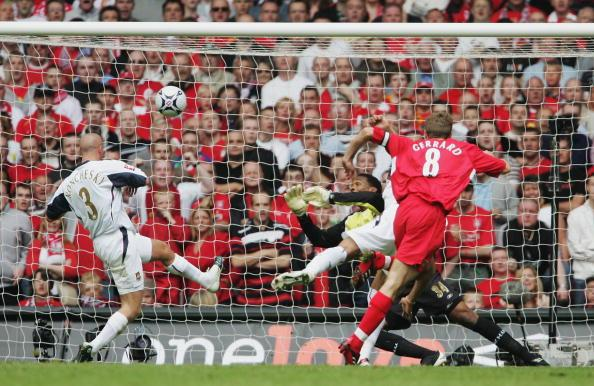ballon_football: (155, 85, 186, 118)
